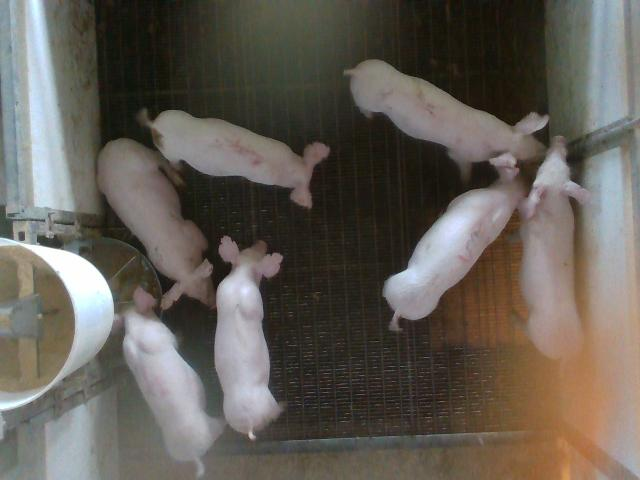pig-3: (382, 152, 539, 331)
pig-4: (112, 286, 224, 477)
pig-5: (138, 109, 330, 208)
